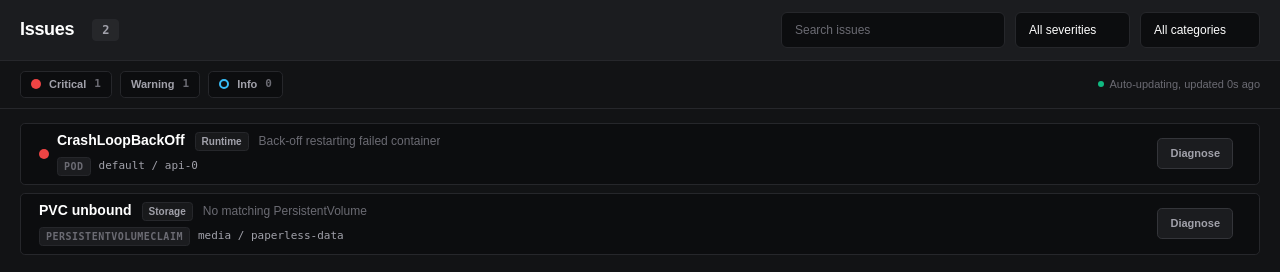
Test: IssuesPanel › hides critical rows when the Warning chip is selected
Click the button "Warning 1" at (160, 84), box top-left (120, 71), bottom-right (200, 98)
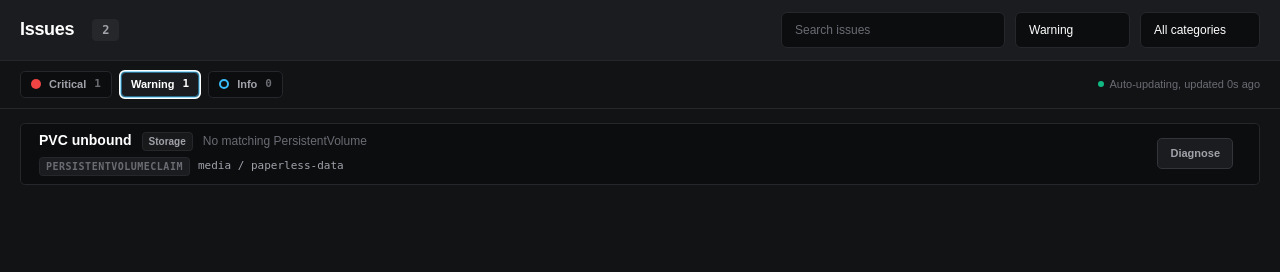
Expected: the button "PVC unbound" is shown, top-left (39, 132), bottom-right (132, 150)
Expected: the button "CrashLoopBackOff" is gone
